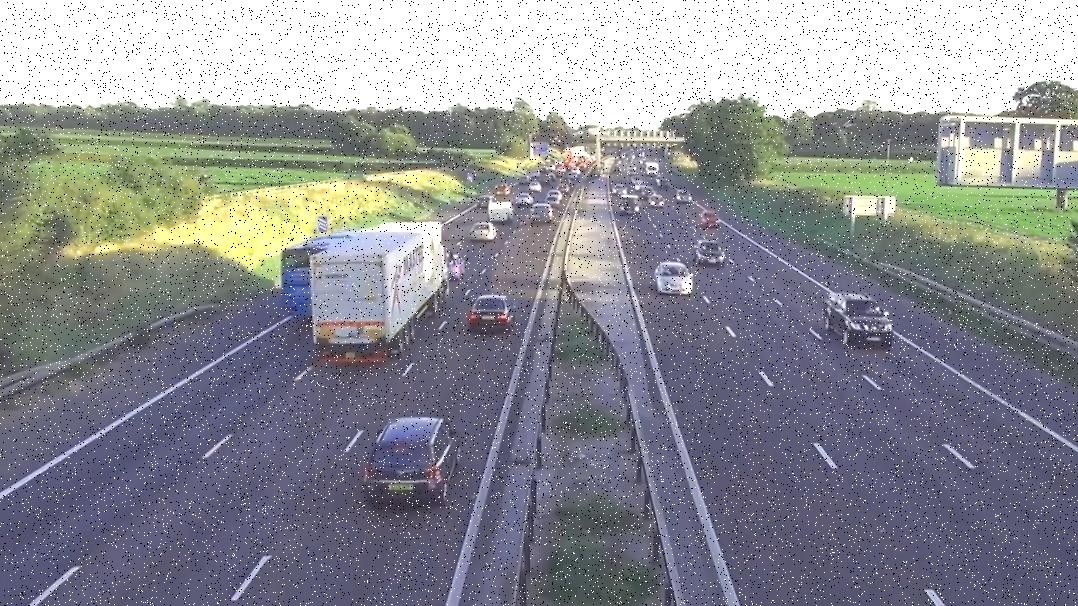car: (318, 221, 451, 343), (370, 413, 469, 502), (817, 295, 895, 351), (468, 295, 515, 333), (654, 261, 697, 295), (694, 241, 727, 267), (466, 223, 497, 243), (486, 204, 517, 223), (531, 206, 557, 224), (619, 194, 640, 214), (698, 213, 719, 229), (648, 193, 665, 209), (514, 193, 536, 205), (675, 190, 694, 201)
